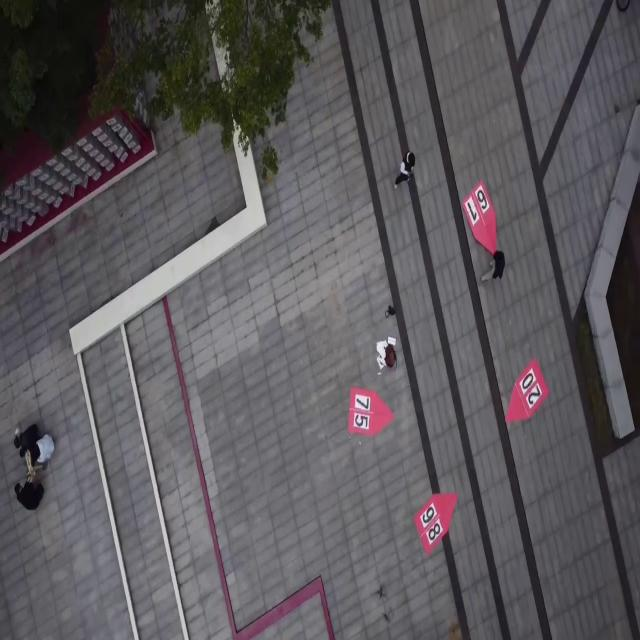-sign-: (502, 352, 556, 428), (458, 172, 504, 260), (409, 486, 462, 562), (342, 381, 399, 448)
